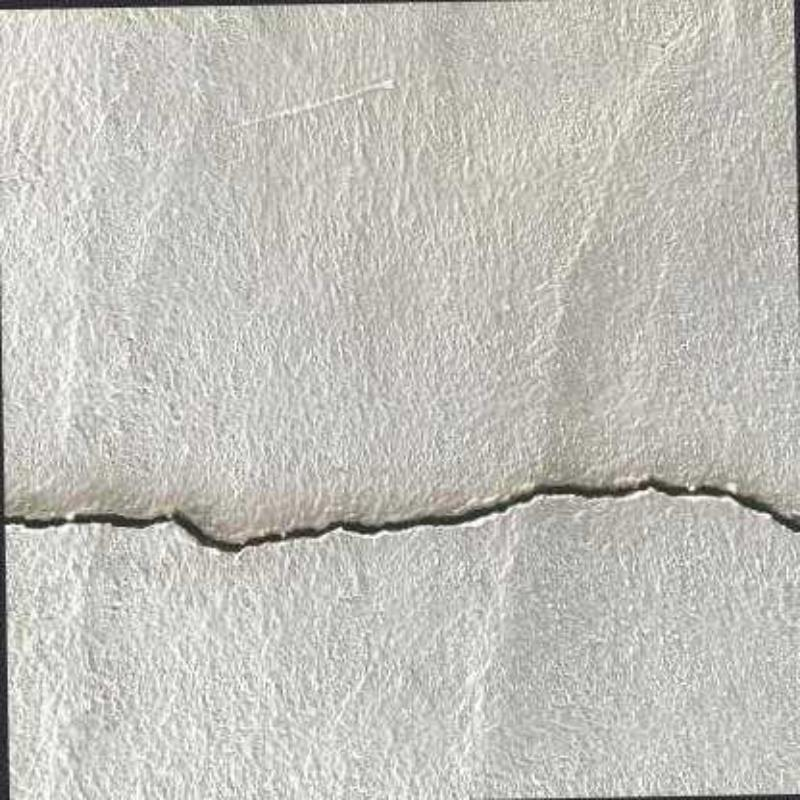crack: (3, 477, 799, 553)
